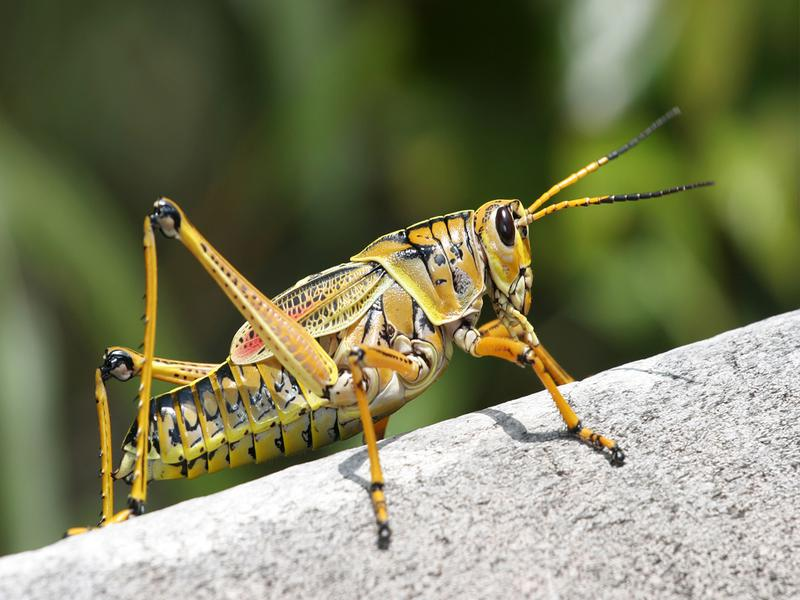Grasshopper: (69, 157, 634, 515)
